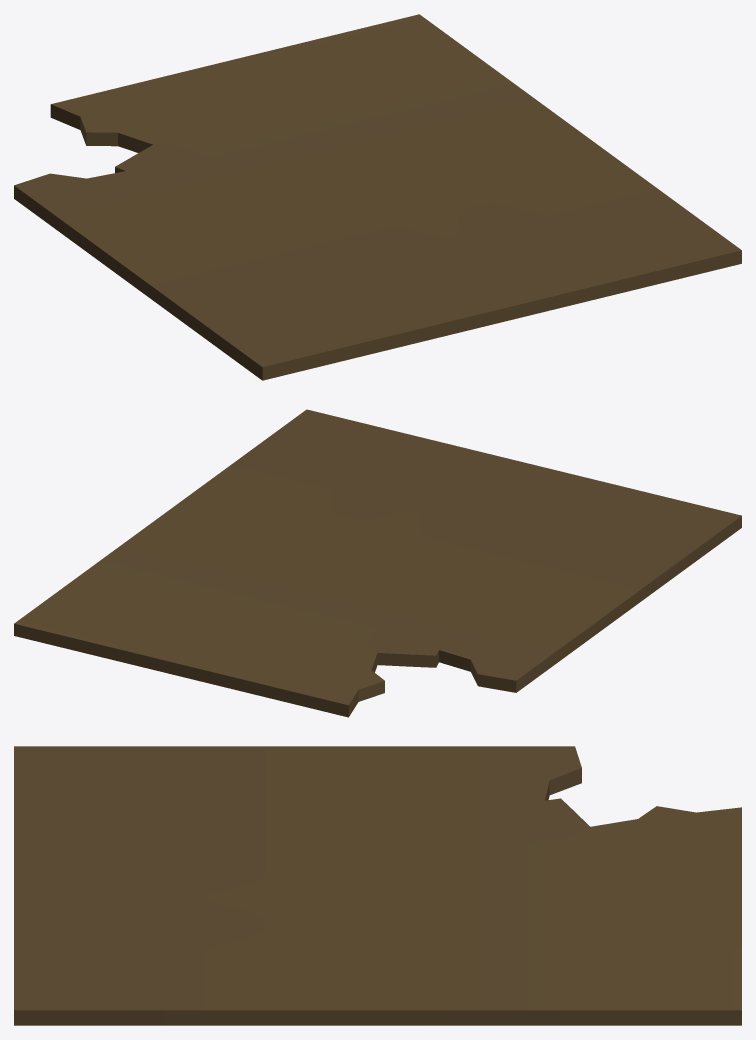
The model's file is carton 3.fbx.
3 renders of one model, top to bottom at view 1: azimuth 30°, elevation 25°; view 2: azimuth 150°, elevation 25°; view 3: azimuth 270°, elevation 25°, orthographic. The views are drawn at different scales.
Visible parts, largest first — view 1: carton 3; view 2: carton 3; view 3: carton 3.
Part boxes in pixels (bbox=[...]): carton 3: bbox=[14, 14, 741, 380]; carton 3: bbox=[14, 409, 741, 717]; carton 3: bbox=[14, 746, 741, 1025].
Bounding box in the file's own units: 40 × 46.6 × 1.07.
